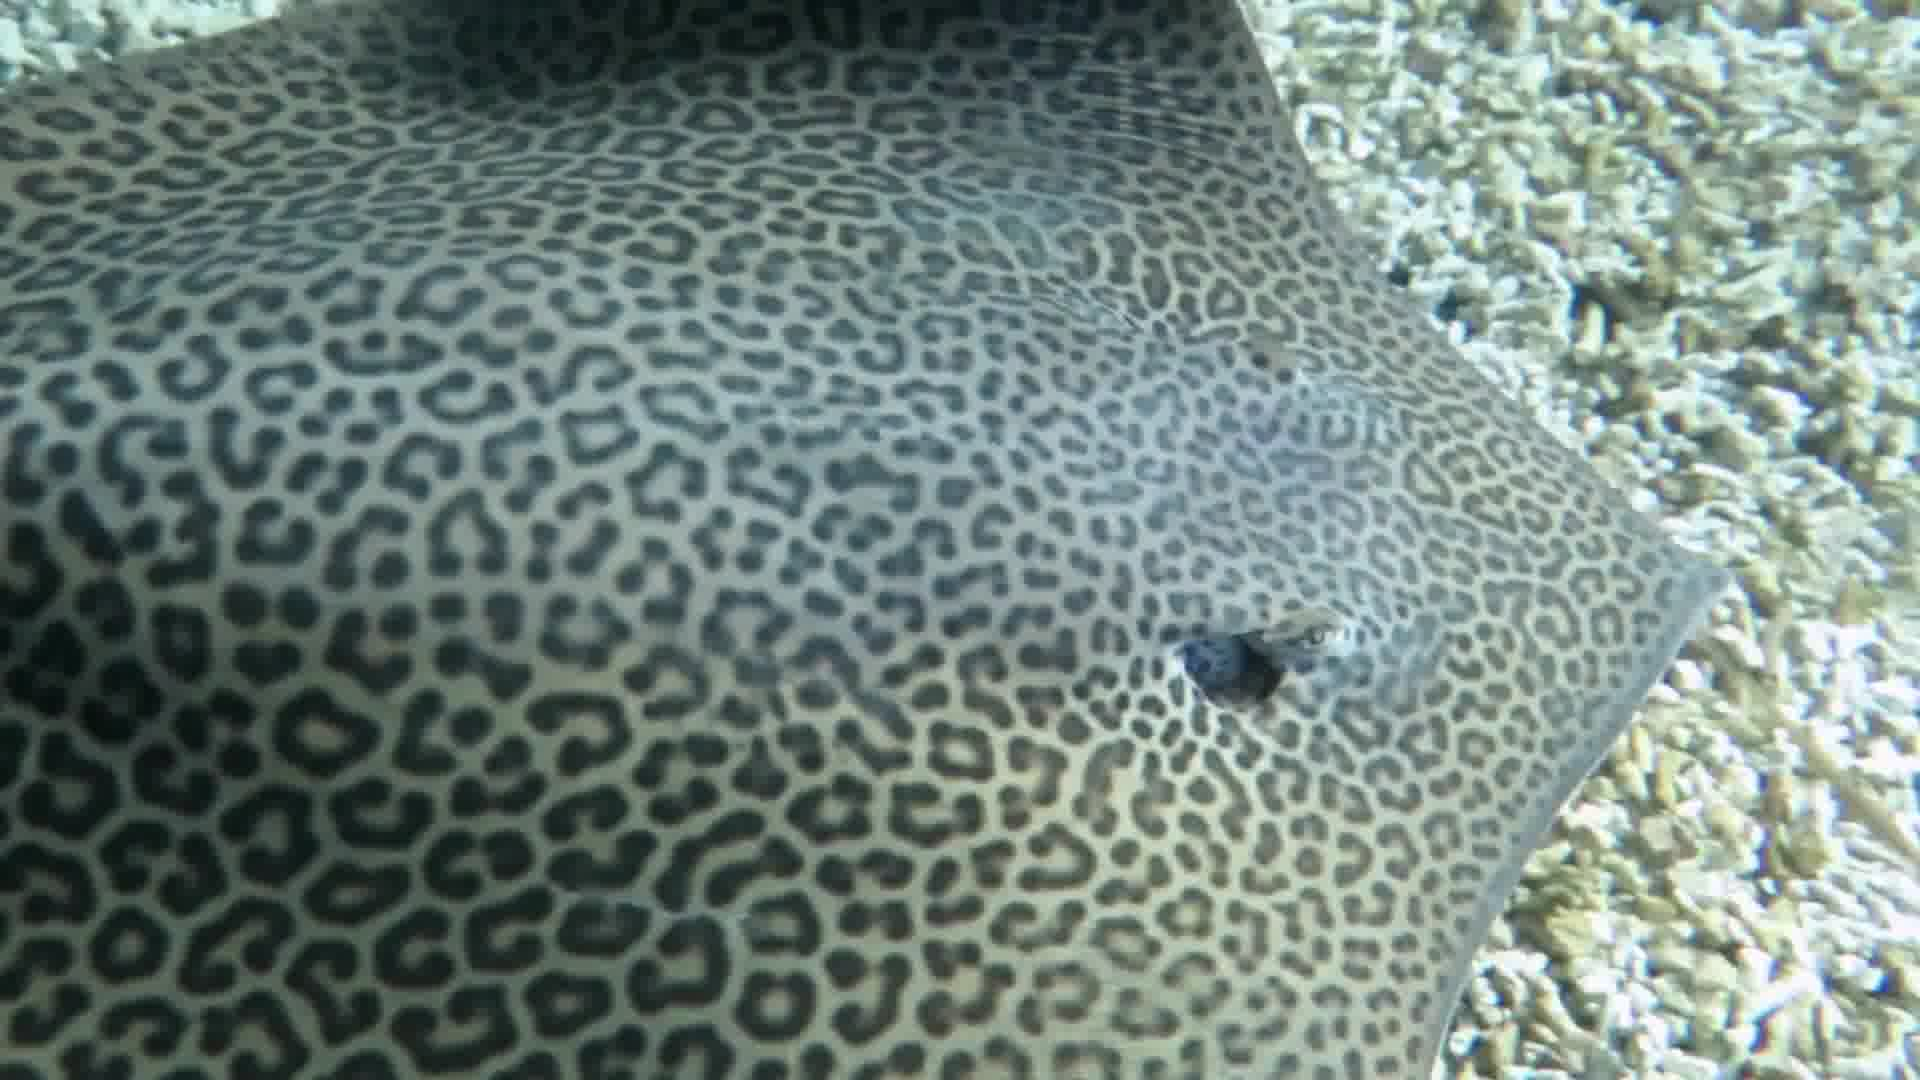Himantura uarnak: (1, 1, 1753, 1080)
